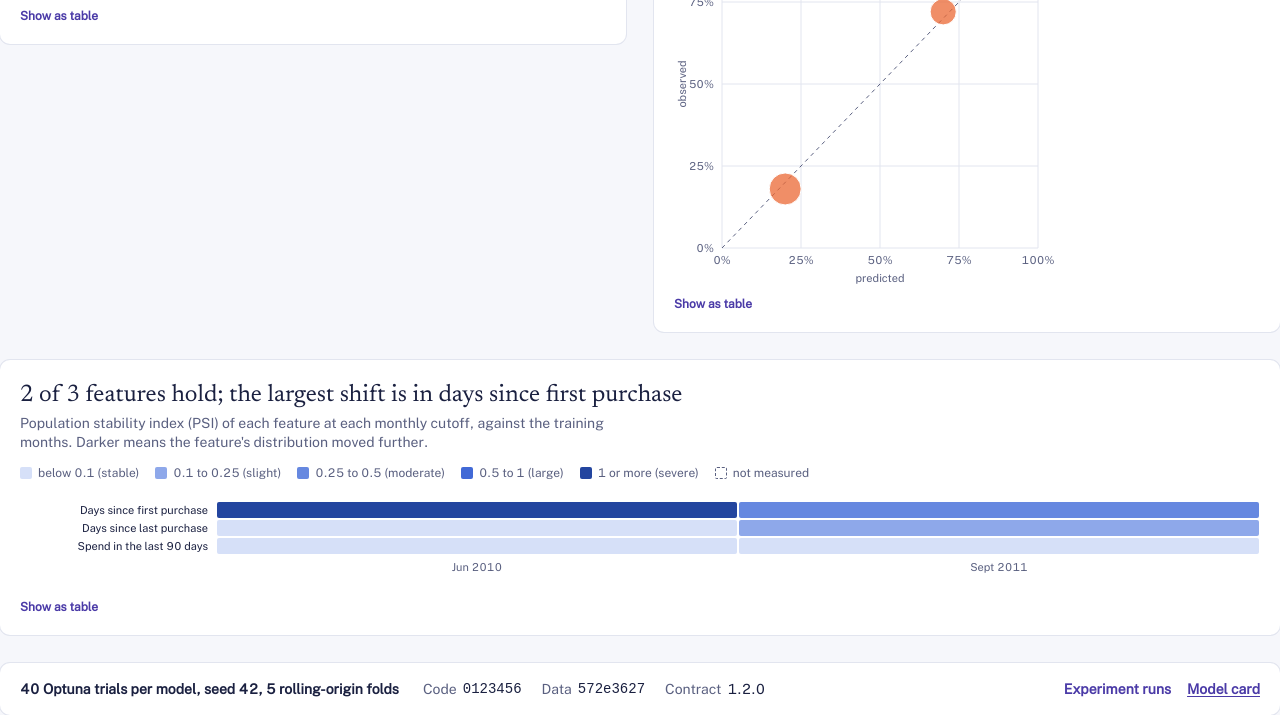
Test case: the run strip names the run, and the experiment runs open in a dialog
(page scrolled)
Expected: the element named "Reproducible run" shows "40 Optuna trials per model, seed 42, 5 rolling-origin folds", [20, 681, 399, 697]
Click the button "Experiment runs": point(1118, 689) [1064, 679, 1171, 699]
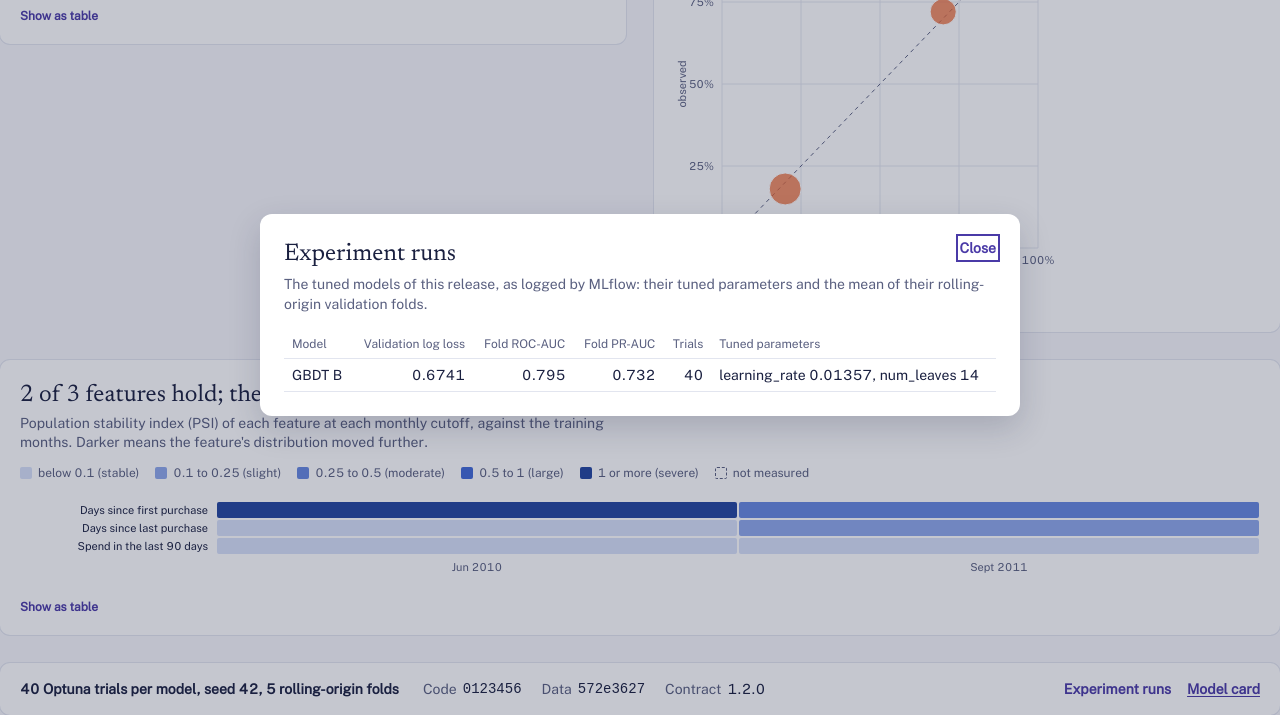
Now the dialog "Experiment runs" shows "GBDT B", box [292, 367, 342, 383]
Now the dialog "Experiment runs" shows "learning_rate 0.01357", box [719, 367, 979, 383]
